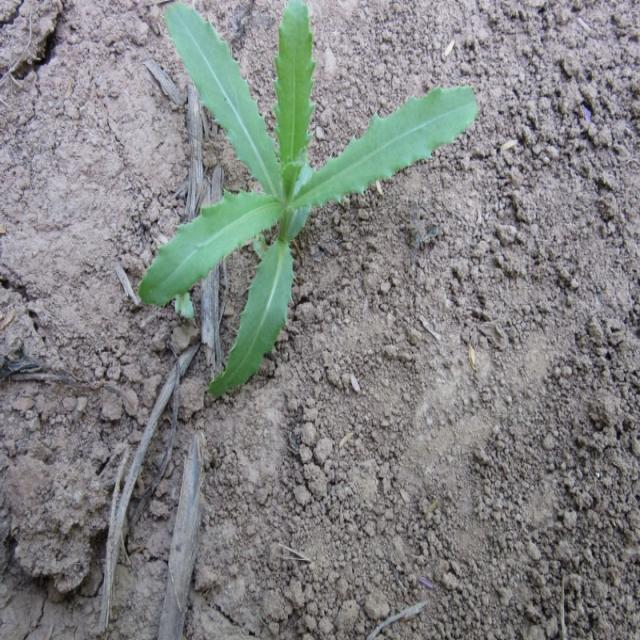cs: (139, 0, 481, 399)
